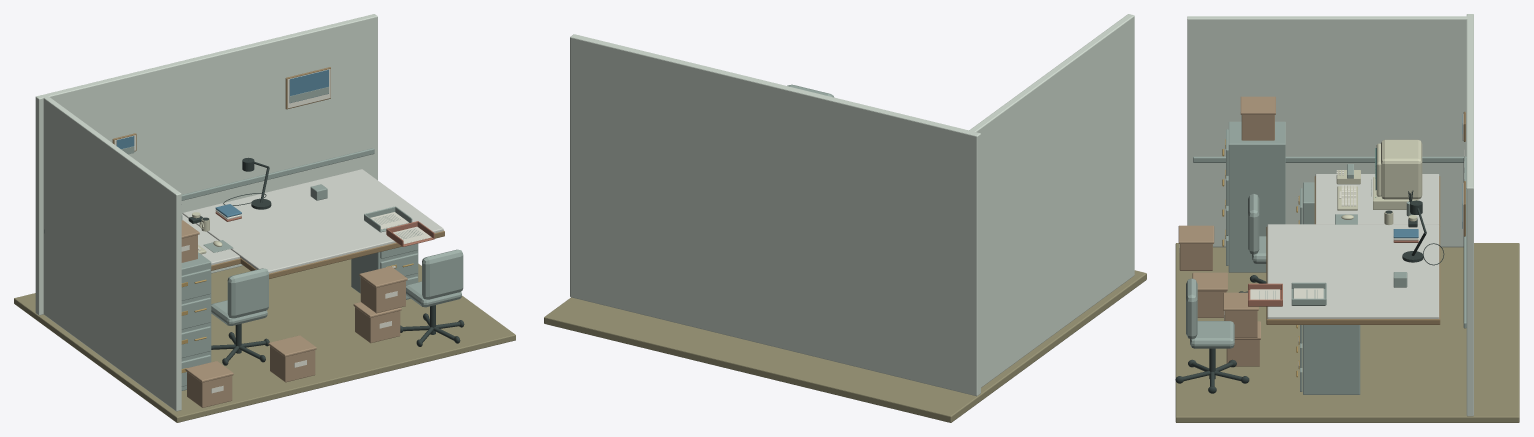
File: office.glb
3 views of the same model, side by side, from view 1: azimuth 30°, elevation 25°; view 2: azimuth 150°, elevation 25°; view 3: azimuth 270°, elevation 25° (orthographic). The views are drawn at different scales.
Visible parts, largest first — view 1: aged mint plaster, ochre carpet, warm gray laminate, sage painted steel, archive cardboard, charcoal, paper, oak edging, blue book, rust enamel; view 2: aged mint plaster, ochre carpet; view 3: aged mint plaster, ochre carpet, warm gray laminate, sage painted steel, archive cardboard, yellowed ABS, oak edging, charcoal, paper, rust enamel.
Part boxes in pixels (x1=…): aged mint plaster: x1=35, y1=14, x2=377, y2=411; ochre carpet: x1=14, y1=259, x2=515, y2=422; warm gray laminate: x1=182, y1=169, x2=443, y2=273; sage painted steel: x1=44, y1=87, x2=463, y2=390; archive cardboard: x1=181, y1=220, x2=407, y2=407; charcoal: x1=188, y1=157, x2=464, y2=365; paper: x1=114, y1=69, x2=431, y2=393; oak edging: x1=112, y1=67, x2=444, y2=278; blue book: x1=116, y1=69, x2=328, y2=217; rust enamel: x1=215, y1=212, x2=434, y2=246; aged mint plaster: x1=570, y1=14, x2=1134, y2=396; ochre carpet: x1=544, y1=270, x2=1146, y2=422; aged mint plaster: x1=1187, y1=14, x2=1473, y2=416; ochre carpet: x1=1175, y1=243, x2=1519, y2=422; warm gray laminate: x1=1267, y1=174, x2=1439, y2=318; sage painted steel: x1=1186, y1=121, x2=1466, y2=394; archive cardboard: x1=1178, y1=96, x2=1275, y2=366; yellowed ABS: x1=1336, y1=139, x2=1422, y2=224; oak edging: x1=1266, y1=111, x2=1465, y2=324; charcoal: x1=1175, y1=190, x2=1444, y2=393; paper: x1=1179, y1=113, x2=1464, y2=367; rust enamel: x1=1248, y1=240, x2=1418, y2=306.
Size of the model in its own units: 3.6 by 2.27 by 3.
